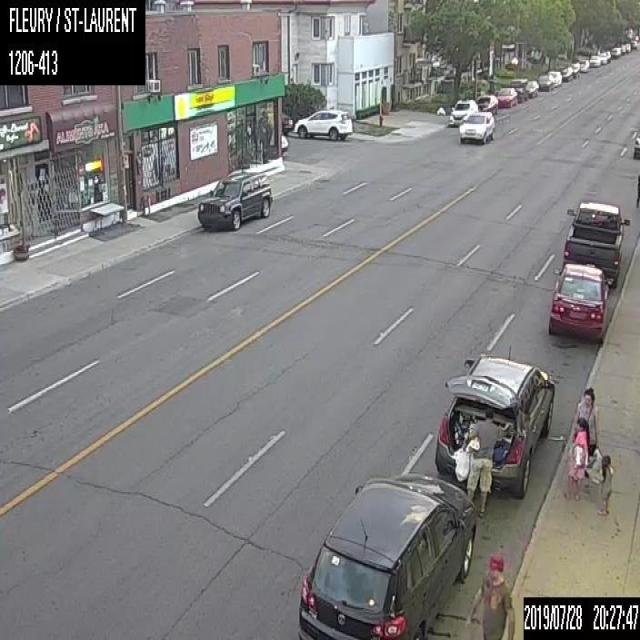pedestrian: (456, 407, 506, 514), (462, 550, 515, 638), (567, 382, 600, 498), (568, 418, 588, 490), (596, 450, 614, 514), (634, 176, 639, 208), (638, 175, 639, 176)
vehicle: (296, 471, 479, 639), (436, 349, 553, 498), (562, 200, 630, 288), (546, 263, 614, 341), (196, 165, 273, 231), (294, 107, 352, 140), (457, 110, 495, 146), (448, 99, 478, 127), (508, 78, 528, 102), (475, 93, 497, 114), (496, 86, 516, 106), (536, 73, 554, 90), (281, 111, 292, 136), (546, 70, 561, 86), (632, 124, 639, 157), (526, 79, 538, 97), (559, 65, 572, 81), (281, 133, 288, 155)
